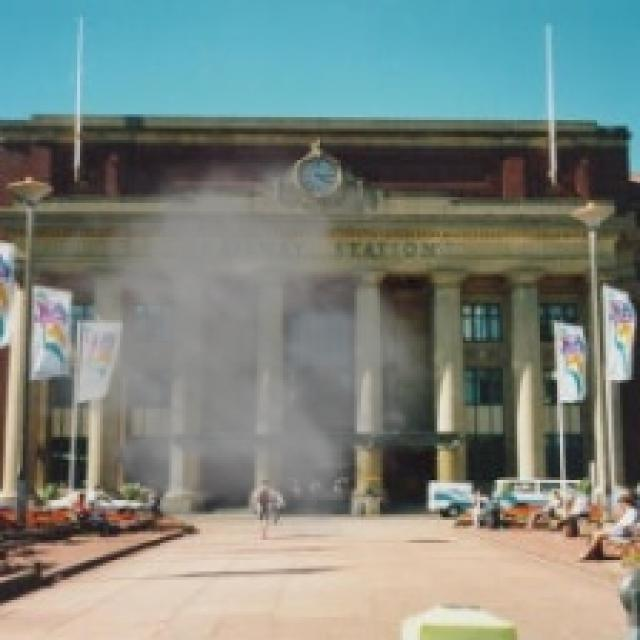Smoke: (20, 120, 443, 537)
